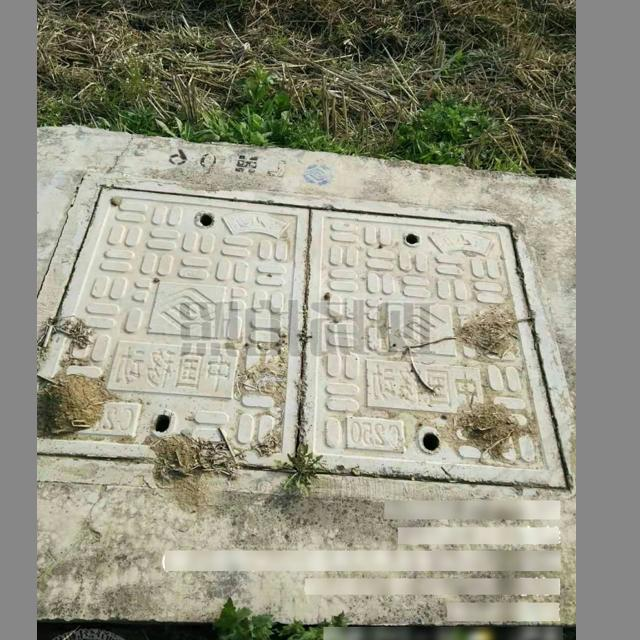good: (37, 170, 575, 505)
